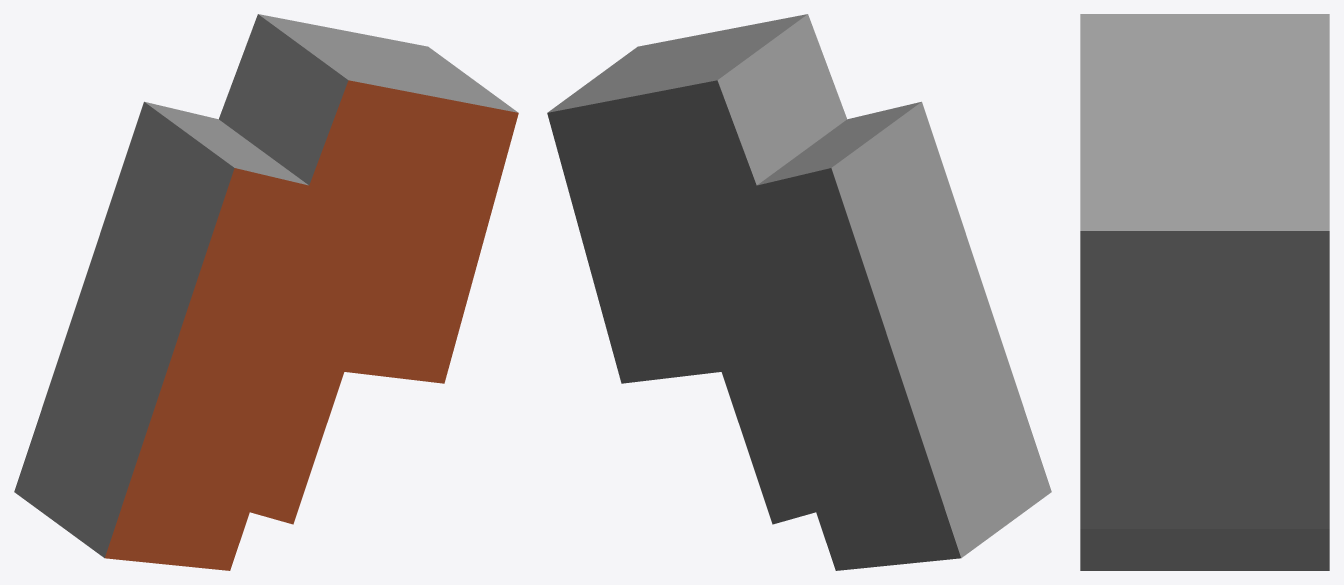
The model's file is construction_0401_assumed_A_Casa_h6m.obj.
3 renders of one model, left to right at view 1: azimuth 30°, elevation 25°; view 2: azimuth 150°, elevation 25°; view 3: azimuth 270°, elevation 25°, orthographic. The views are drawn at different scales.
Parts seen in each view (by area): view 1: construction_0401_assumed_A_Casa; view 2: construction_0401_assumed_A_Casa; view 3: construction_0401_assumed_A_Casa.
Part boxes in pixels (x1,y1,x2,y2): construction_0401_assumed_A_Casa: (14,14,518,570); construction_0401_assumed_A_Casa: (547,14,1051,570); construction_0401_assumed_A_Casa: (1080,14,1329,570).
Size of the model in its own units: 15.84 by 16.88 by 6.
